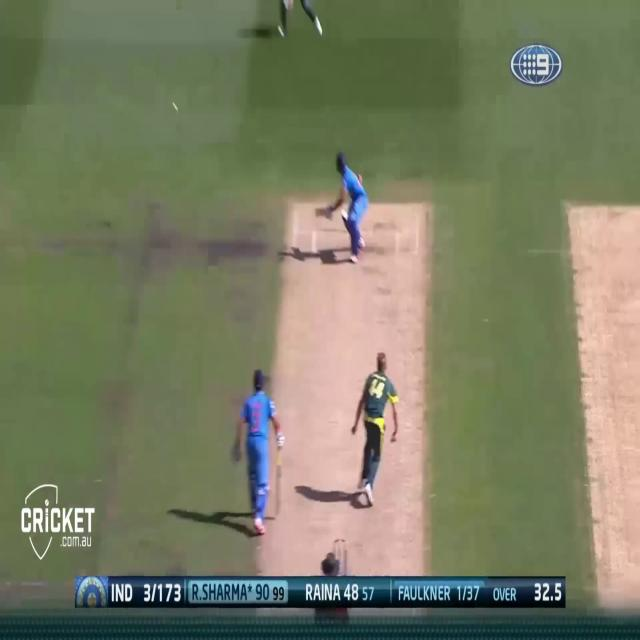Batsman: (316, 129, 375, 278)
